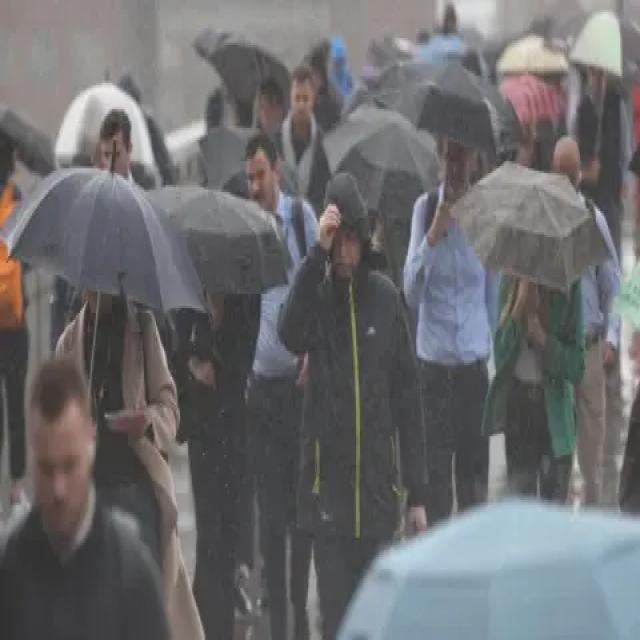Walking: (289, 177, 440, 639), (1, 356, 180, 638), (244, 138, 320, 640), (403, 126, 496, 523), (532, 138, 620, 502), (177, 276, 259, 636), (62, 110, 145, 364), (495, 258, 562, 498), (569, 19, 630, 266), (0, 139, 32, 509), (281, 66, 334, 212), (306, 39, 346, 130), (572, 91, 602, 193), (95, 109, 135, 180), (423, 2, 466, 53), (255, 72, 288, 138), (511, 112, 541, 170), (442, 3, 458, 33)
human: (324, 172, 370, 244)
